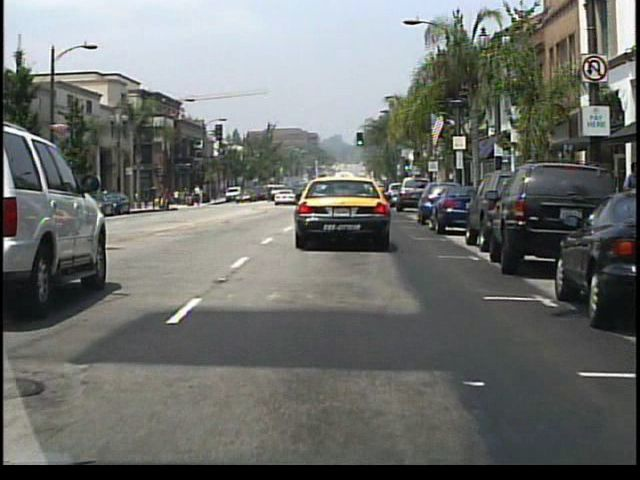person: (196, 190, 204, 206)
